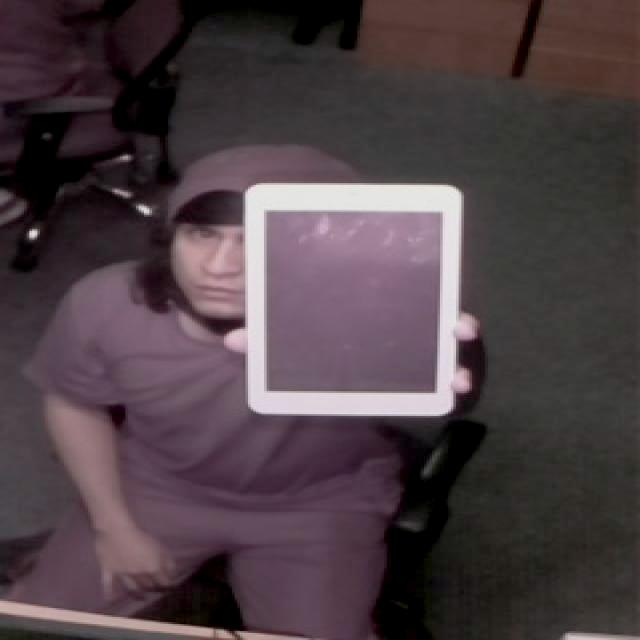phone: (231, 170, 488, 420)
